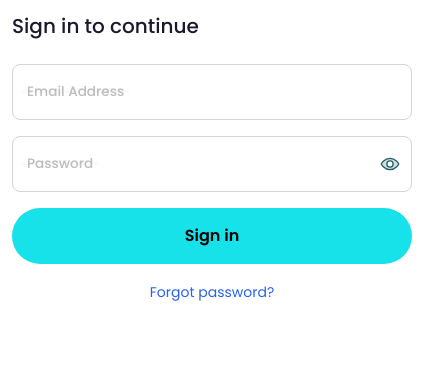
Test: GuestSignIn › input handling › shows validation error when email is empty on submit
In the password field: (212, 164) [12, 136, 412, 192], type "password123"
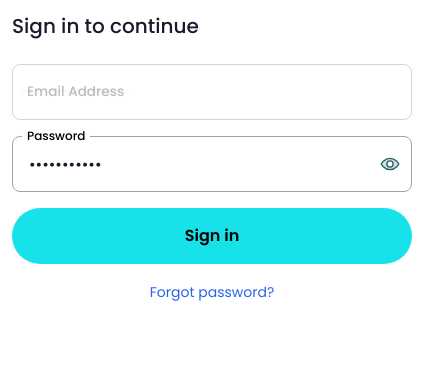
Click the button "Sign in": (212, 236) [12, 208, 412, 264]
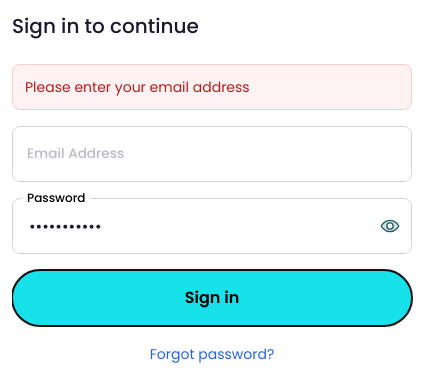
Check: the text "Please enter your email address" is shown, box [25, 77, 250, 97]
